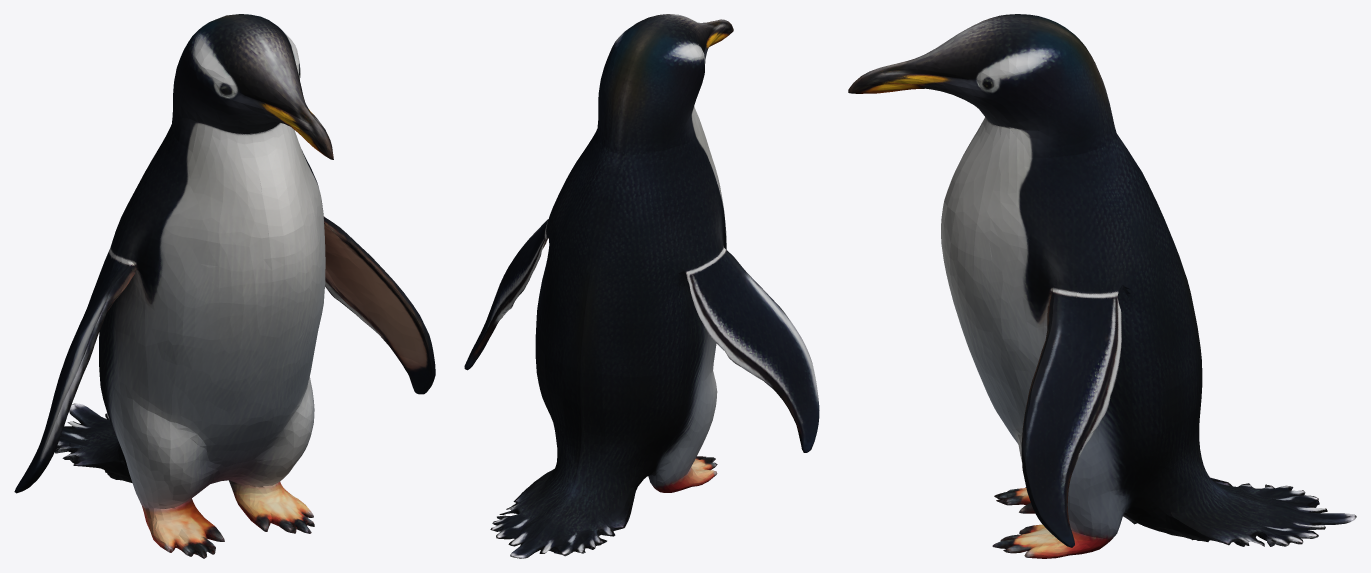
The model's file is sample.glb.
The picture shows the model from 3 angles, left to right: view 1: azimuth 30°, elevation 25°; view 2: azimuth 150°, elevation 25°; view 3: azimuth 270°, elevation 25°; orthographic projection. The views are drawn at different scales.
Visible parts, largest first — view 1: world; view 2: world; view 3: world.
Boxes of the visible parts, left/top/right/bottom form: world: left=14, top=14, right=435, bottom=558; world: left=464, top=14, right=819, bottom=558; world: left=848, top=14, right=1356, bottom=558.
Bounding box in the file's own units: 0.8279 × 0.9997 × 0.9091.
1 material, 1 textured.
